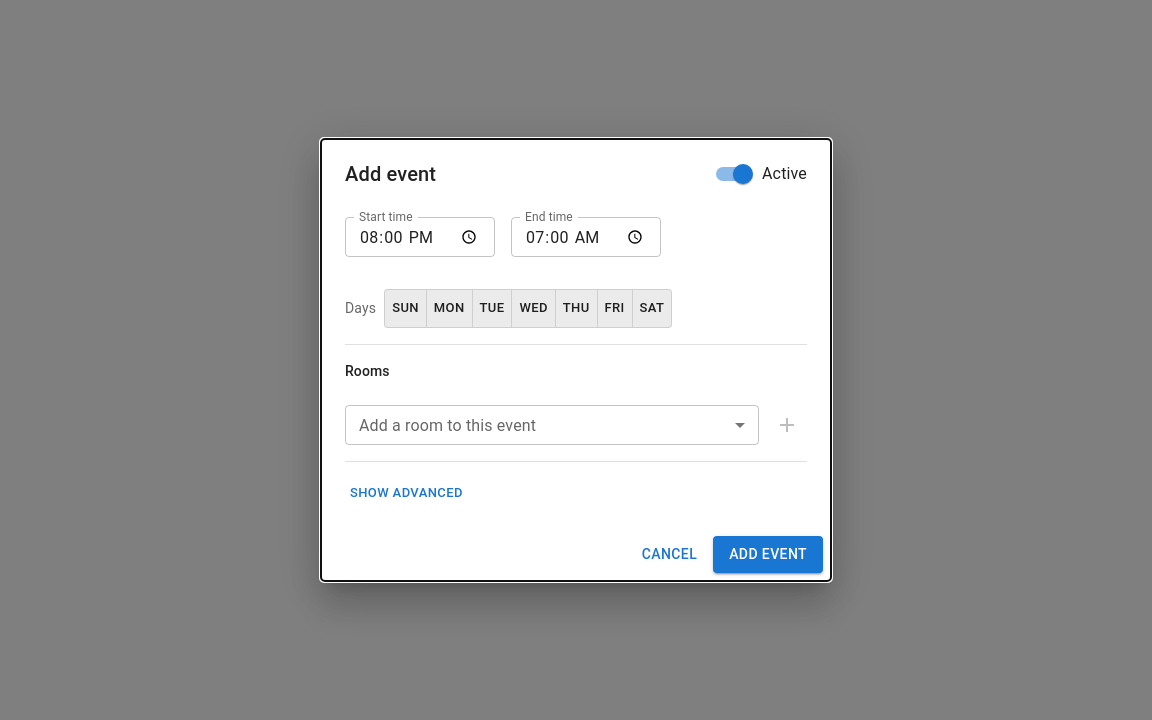
Scenario: EventEditorDialog › Save is disabled while start and end time are equal
The image size is (1152, 720).
Step 1. Replace the text in the time field labelled "End time" with "20:00" → (586, 237), box [511,217,661,257]
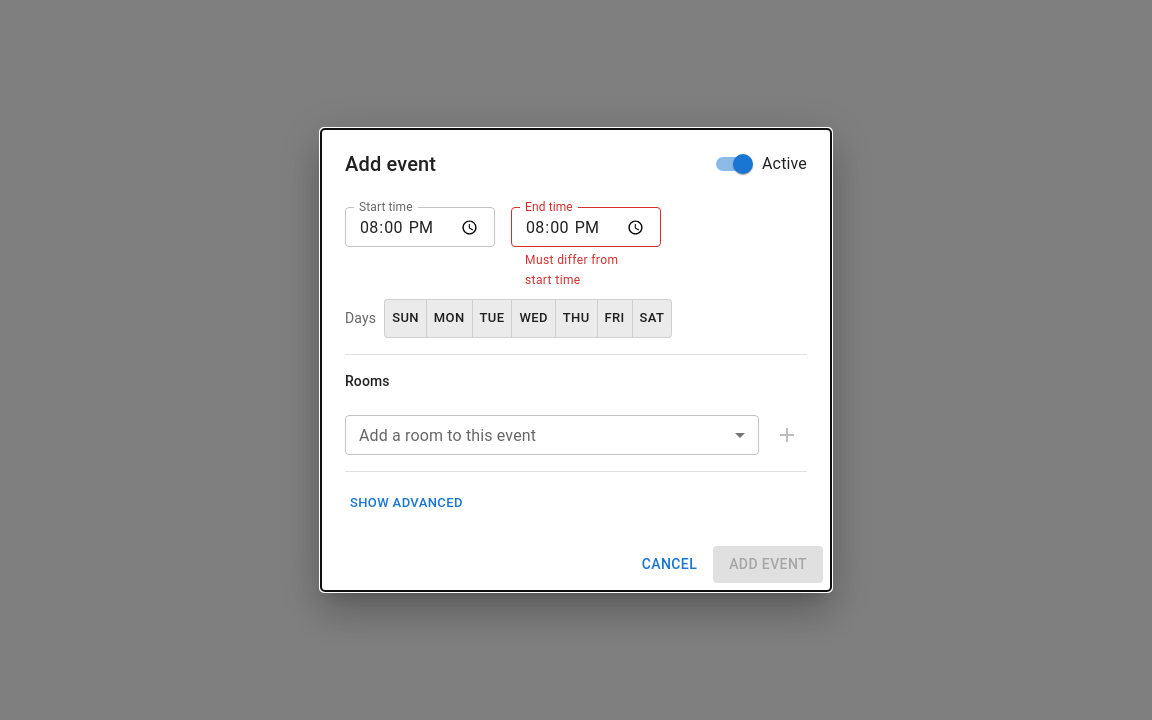
expect the button "Add event" is disabled: met, box [713,546,823,583]
expect the text "Must differ from start time" is shown: met, box [525,253,618,287]
